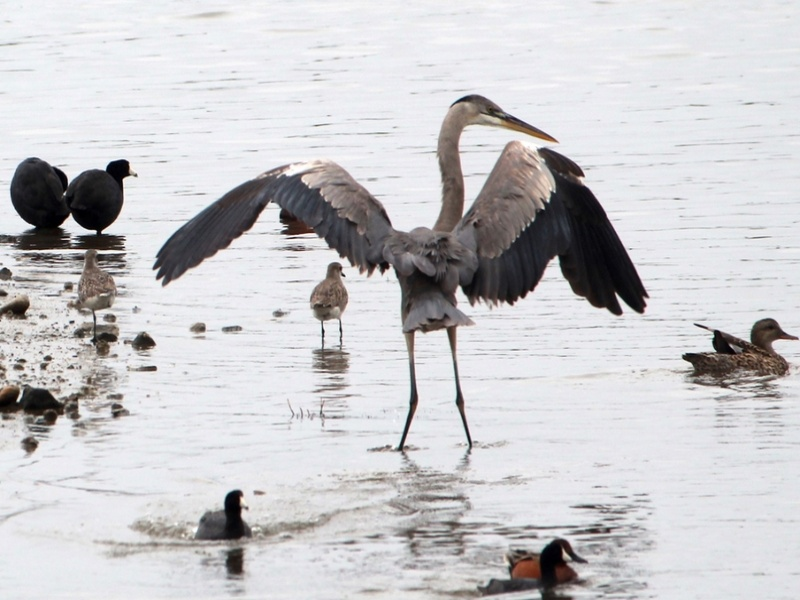heron: (155, 92, 648, 459)
